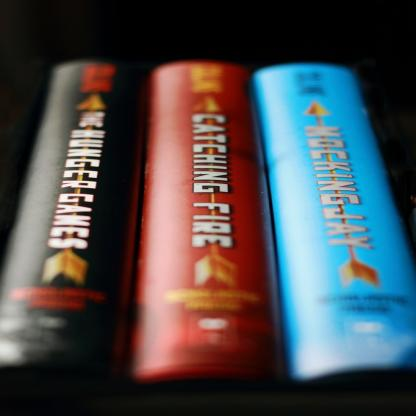book: (250, 61, 416, 385), (128, 61, 291, 386), (2, 61, 160, 366)
